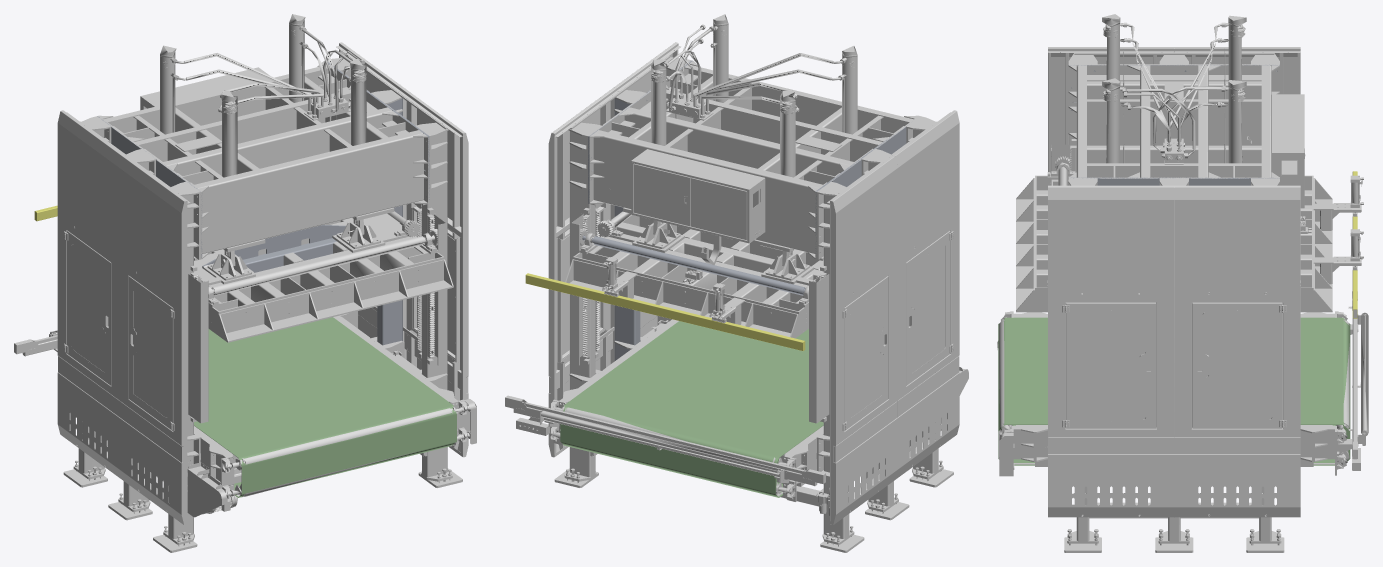
The model's file is device-03.glb.
The picture shows the model from 3 angles, left to right: view 1: azimuth 30°, elevation 25°; view 2: azimuth 150°, elevation 25°; view 3: azimuth 270°, elevation 25°; orthographic projection.
Parts seen in each view (by area): view 1: Í¹Ì¨-ÀÉì1(2), ÒÆ¶¯Ãæ1[4] (×2), ÇÐ³ý-ÀÉì7(2) (×2), 41M-V4.0 装配体2_2, Ô²½Ç1(2) (×2), »ùÌå-·¨À¼2 (×2), Í¹Ì¨-ÀÉì8(1), ÇÐ³ý-ÀÉì1(5) (×2), ±ßÏß-·¨À¼3 (×2), ÇÐ³ý-ÀÉì6(2) (×4), M6 ÂÝÎÆ¿×1(4), Í¹Ì¨-ÀÉì7(1) (+21 smaller); view 2: ÒÆ¶¯Ãæ1[4] (×2), Í¹Ì¨-ÀÉì1(2), ÇÐ³ý-ÀÉì7(2) (×2), 41M-V4.0 装配体2_2, Ô²½Ç1(2) (×2), »ùÌå-·¨À¼2 (×2), ±ßÏß-·¨À¼3 (×2), ÇÐ³ý-ÀÉì6(2) (×4), ÇÐ³ý-ÀÉì1(5) (×2), ÇÐ³ý-ÀÉì10, Í¹Ì¨-ÀÉì8(2), M8 ÂÝÎÆ¿×1[1] (+25 smaller); view 3: 41M-V4.0 装配体2_2, Í¹Ì¨-ÀÉì1(2), ÒÆ¶¯Ãæ1[4] (×2), ÇÐ³ý-ÀÉì6(2) (×4), ÇÐ³ý-ÀÉì10, ÒÆ¶¯Ãæ1[1](2), ÇÐ³ý-ÀÉì7(2) (×2), ¾µÏò1[1](2) (×2), ÇÐ³ý-ÀÉì2[2](1), ÇÐ³ý-ÀÉì2[4], ¾µÏò1[2](2) (×2), »ùÌå-·¨À¼2 (×2) (+20 smaller).
Part boxes in pixels (left/top/right/bottom): Í¹Ì¨-ÀÉì1(2): left=194, top=317, right=456, bottom=497; ÒÆ¶¯Ãæ1[4] (×2): left=58, top=110, right=190, bottom=524; ÇÐ³ý-ÀÉì7(2) (×2): left=105, top=64, right=423, bottom=253; 41M-V4.0 装配体2_2: left=336, top=42, right=468, bottom=457; Ô²½Ç1(2) (×2): left=71, top=244, right=167, bottom=417; »ùÌå-·¨À¼2 (×2): left=136, top=93, right=392, bottom=176; Í¹Ì¨-ÀÉì8(1): left=218, top=259, right=444, bottom=334; ÇÐ³ý-ÀÉì1(5) (×2): left=187, top=213, right=445, bottom=423; ±ßÏß-·¨À¼3 (×2): left=67, top=230, right=173, bottom=430; ÇÐ³ý-ÀÉì6(2) (×4): left=160, top=14, right=366, bottom=177; M6 ÂÝÎÆ¿×1(4): left=422, top=131, right=447, bottom=389; Í¹Ì¨-ÀÉì7(1): left=218, top=280, right=453, bottom=342; ÒÆ¶¯Ãæ1[4] (×2): left=827, top=110, right=959, bottom=524; Í¹Ì¨-ÀÉì1(2): left=560, top=321, right=823, bottom=497; ÇÐ³ý-ÀÉì7(2) (×2): left=593, top=65, right=913, bottom=253; 41M-V4.0 装配体2_2: left=548, top=42, right=681, bottom=457; Ô²½Ç1(2) (×2): left=849, top=244, right=945, bottom=417; »ùÌå-·¨À¼2 (×2): left=624, top=90, right=879, bottom=176; ±ßÏß-·¨À¼3 (×2): left=844, top=230, right=950, bottom=430; ÇÐ³ý-ÀÉì6(2) (×4): left=651, top=14, right=857, bottom=177; ÇÐ³ý-ÀÉì1(5) (×2): left=571, top=213, right=829, bottom=423; ÇÐ³ý-ÀÉì10: left=631, top=149, right=765, bottom=243; Í¹Ì¨-ÀÉì8(2): left=572, top=259, right=798, bottom=334; M8 ÂÝÎÆ¿×1[1]: left=525, top=273, right=805, bottom=350; 41M-V4.0 装配体2_2: left=1048, top=185, right=1300, bottom=517; Í¹Ì¨-ÀÉì1(2): left=998, top=317, right=1350, bottom=465; ÒÆ¶¯Ãæ1[4] (×2): left=1048, top=47, right=1300, bottom=171; ÇÐ³ý-ÀÉì6(2) (×4): left=1102, top=14, right=1246, bottom=163; ÇÐ³ý-ÀÉì10: left=1271, top=94, right=1304, bottom=208; ÒÆ¶¯Ãæ1[1](2): left=1068, top=64, right=1279, bottom=132; ÇÐ³ý-ÀÉì7(2) (×2): left=1076, top=65, right=1271, bottom=177; ¾µÏò1[1](2) (×2): left=1077, top=65, right=1271, bottom=177; ÇÐ³ý-ÀÉì2[2](1): left=1208, top=99, right=1261, bottom=145; ÇÐ³ý-ÀÉì2[4]: left=1087, top=99, right=1139, bottom=145; ¾µÏò1[2](2) (×2): left=1140, top=65, right=1207, bottom=177; »ùÌå-·¨À¼2 (×2): left=1140, top=65, right=1208, bottom=177.
Size of the model in its own units: 296 by 375 by 293.
